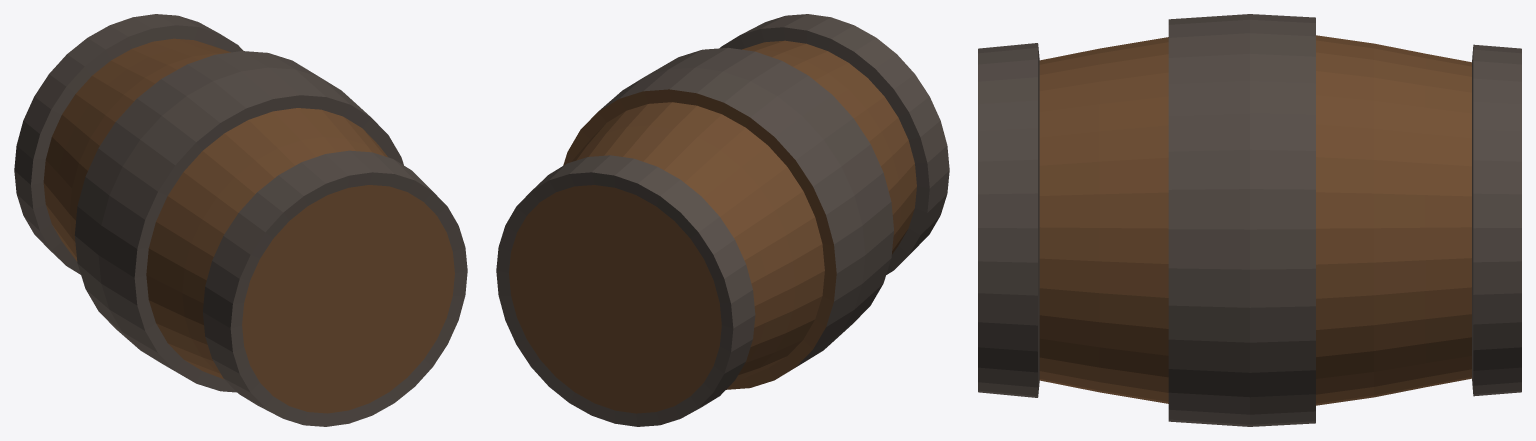
The model's file is barrel.fbx.
3 renders of one model, left to right at view 1: azimuth 30°, elevation 25°; view 2: azimuth 150°, elevation 25°; view 3: azimuth 270°, elevation 25°, orthographic. The views are drawn at different scales.
Visible parts, largest first — view 1: Cylinder; view 2: Cylinder; view 3: Cylinder.
Boxes of the visible parts, <box> form: Cylinder: <box>14,14,467,426</box>; Cylinder: <box>496,14,949,426</box>; Cylinder: <box>978,14,1521,426</box>.
Size of the model in its own units: 8.83 by 11.62 by 8.83.
